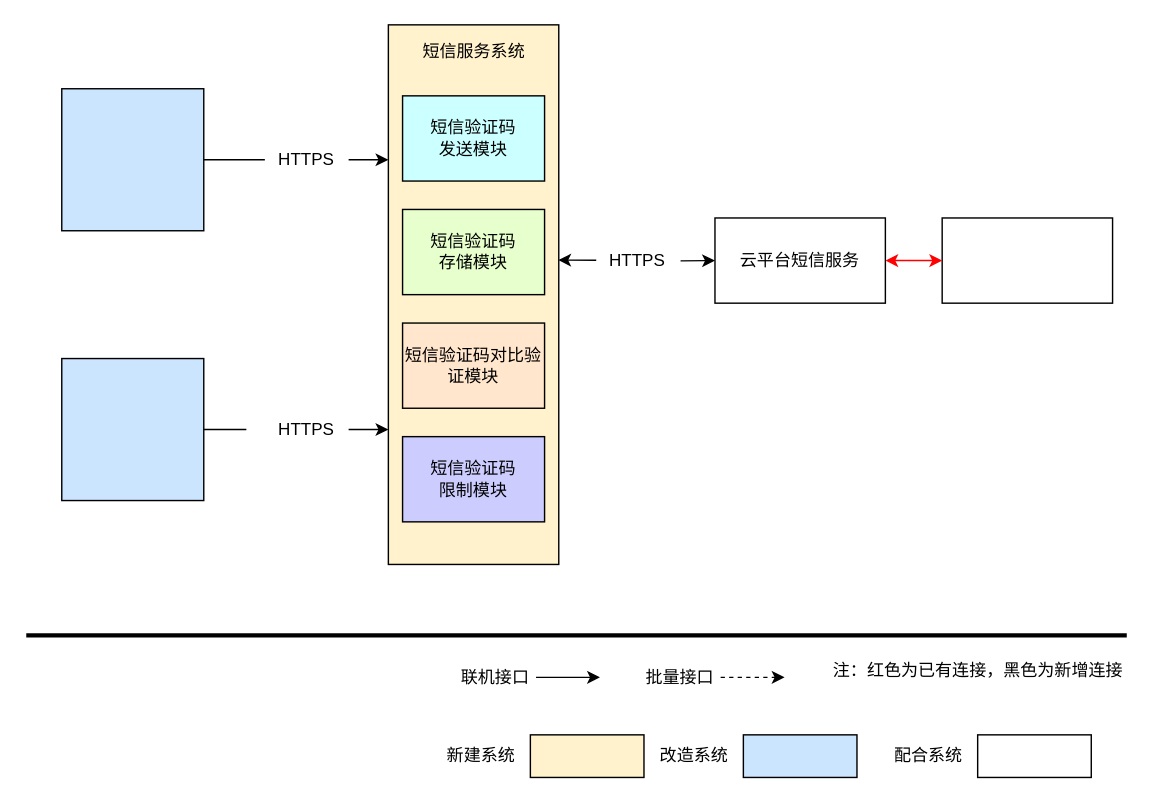
Image size: 1166x802. Some labels were removed from this diagram. Each missing label, with the centre of its shape:
"中国银行注册系统" belongs at point (132, 159).
"中国银行登陆系统" belongs at point (132, 429).
"运营商服务" belongs at point (1027, 260).
